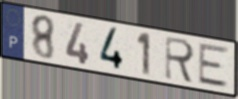1: (135, 31, 152, 78)
4: (64, 19, 91, 67), (99, 25, 126, 73)
8: (30, 14, 57, 60)
E: (197, 43, 231, 90)
R: (163, 35, 197, 86)
